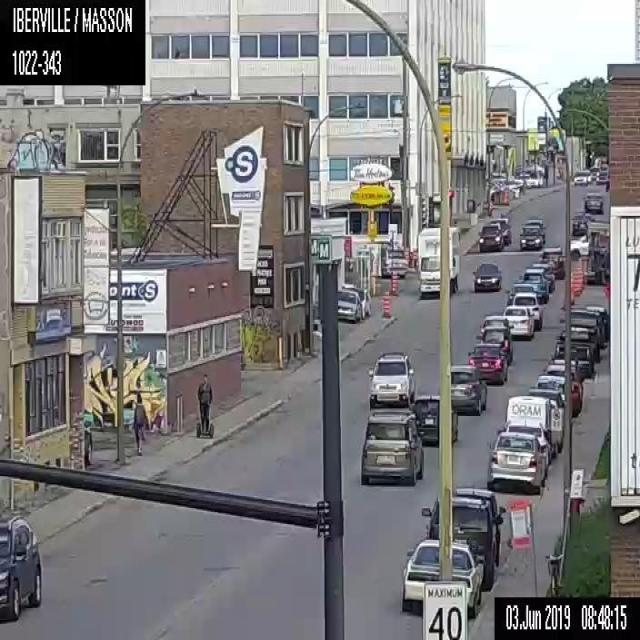construction: (572, 262, 582, 294), (389, 270, 398, 296), (381, 294, 390, 318), (603, 282, 607, 294)
pedestrian: (195, 373, 213, 438), (133, 392, 145, 453)
vehicle: (402, 538, 478, 613), (361, 408, 423, 484), (422, 486, 494, 547), (0, 512, 40, 620), (486, 427, 550, 494), (416, 225, 461, 298), (411, 393, 459, 448), (368, 349, 414, 406), (445, 360, 488, 418), (551, 337, 596, 380), (504, 392, 554, 430), (467, 342, 510, 384), (501, 305, 533, 340), (479, 326, 513, 357), (564, 309, 600, 338), (528, 373, 566, 400), (333, 290, 362, 322), (380, 242, 407, 276), (472, 261, 501, 292), (517, 220, 544, 252), (542, 360, 580, 382), (478, 220, 503, 250), (520, 265, 550, 289), (568, 231, 592, 259), (540, 247, 567, 270), (508, 290, 538, 310), (493, 219, 514, 247), (570, 211, 593, 235), (582, 190, 604, 213), (83, 426, 91, 466), (360, 287, 370, 318), (572, 168, 588, 184)
